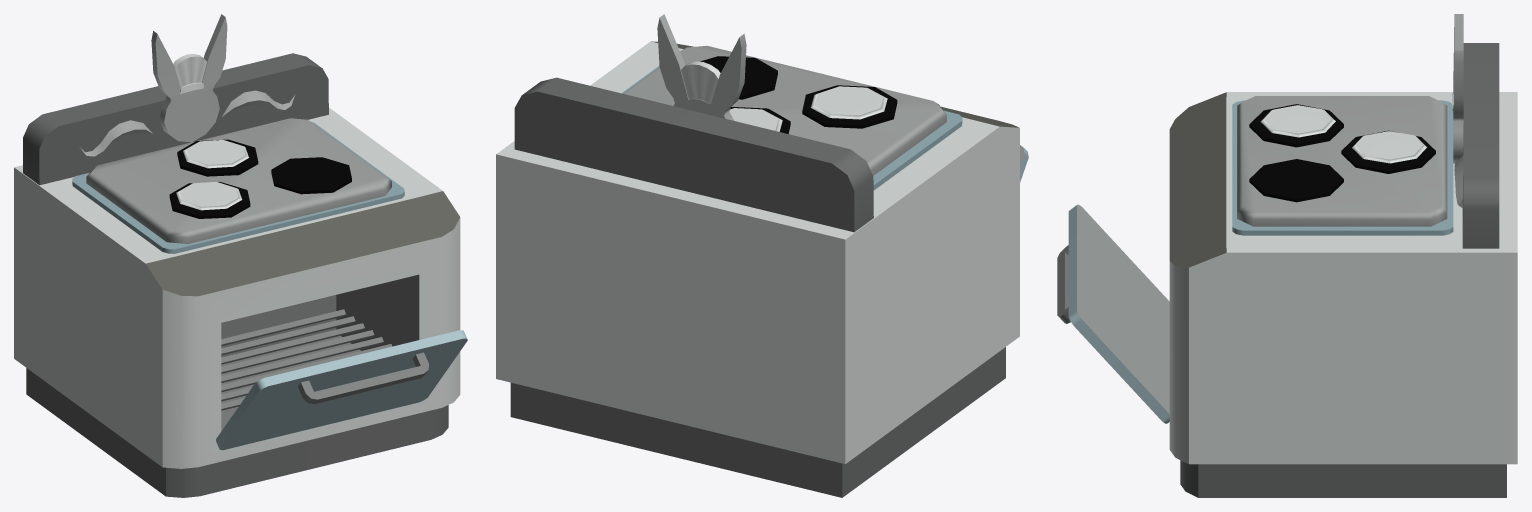
The picture shows the model from 3 angles, left to right: view 1: azimuth 30°, elevation 25°; view 2: azimuth 150°, elevation 25°; view 3: azimuth 270°, elevation 25°; orthographic projection. The views are drawn at different scales.
Visible parts, largest first — view 1: G:\FFXIV-MapTools\exports\u5f1\bg\ex4\04_uvs_u5\fld\u5f1\bgp (×9); view 2: G:\FFXIV-MapTools\exports\u5f1\bg\ex4\04_uvs_u5\fld\u5f1\bgp (×6); view 3: G:\FFXIV-MapTools\exports\u5f1\bg\ex4\04_uvs_u5\fld\u5f1\bgp (×8).
Part boxes in pixels (<box>): G:\FFXIV-MapTools\exports\u5f1\bg\ex4\04_uvs_u5\fld\u5f1\bgp (×9): <box>14,14,467,497</box>; G:\FFXIV-MapTools\exports\u5f1\bg\ex4\04_uvs_u5\fld\u5f1\bgp (×6): <box>496,14,1028,497</box>; G:\FFXIV-MapTools\exports\u5f1\bg\ex4\04_uvs_u5\fld\u5f1\bgp (×8): <box>1057,14,1517,497</box>.
Size of the model in its own units: 0.7759 by 0.877 by 0.9395.
